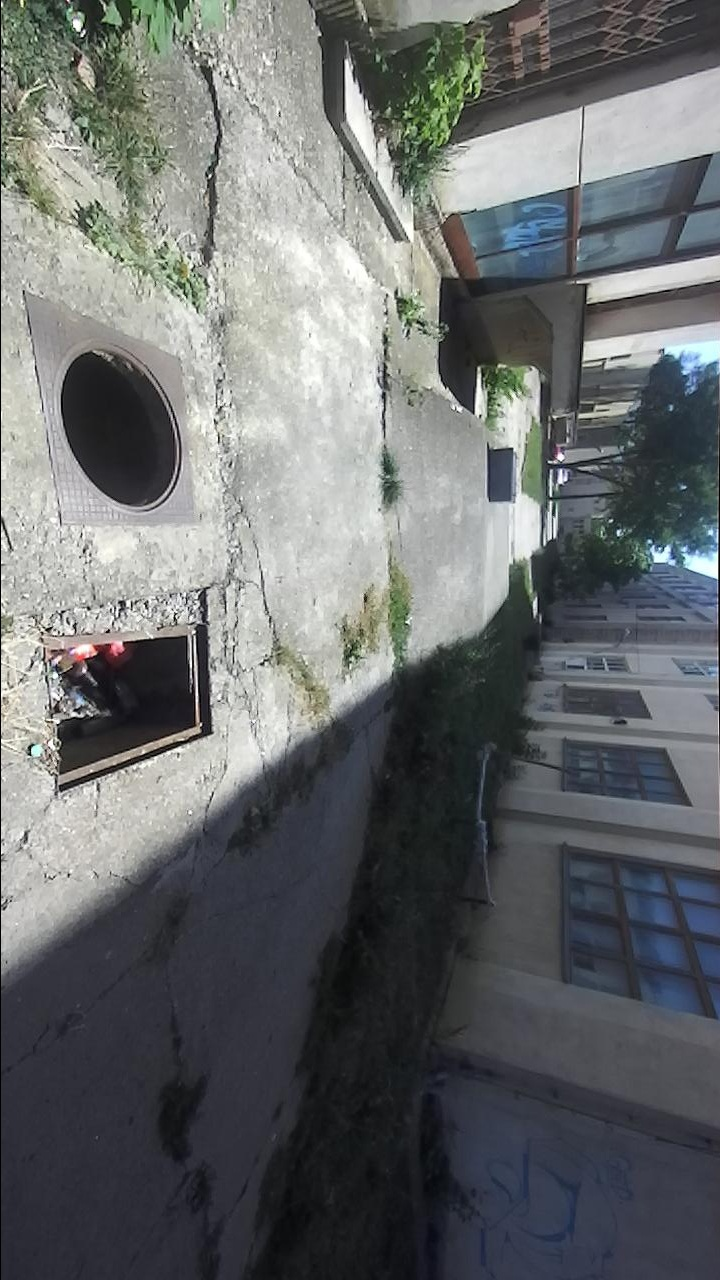drain: (56, 579, 215, 796), (60, 345, 186, 510)
